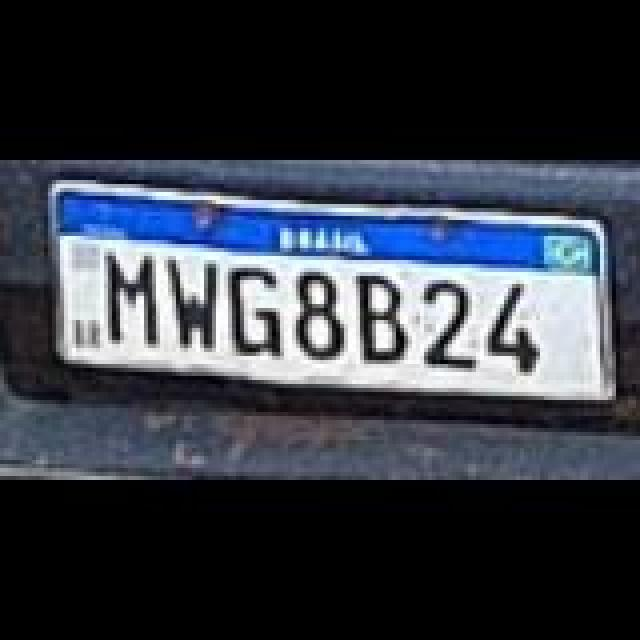2: (418, 278, 486, 370)
4: (484, 282, 548, 374)
8: (286, 270, 354, 362)
B: (350, 272, 418, 368)
G: (222, 264, 290, 360)
M: (100, 250, 172, 350)
W: (162, 256, 230, 352)
